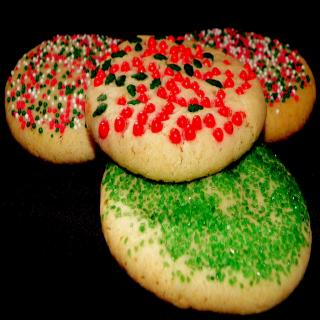Cookie: (100, 160, 312, 316), (72, 37, 270, 190), (184, 28, 316, 145), (4, 34, 123, 162)
